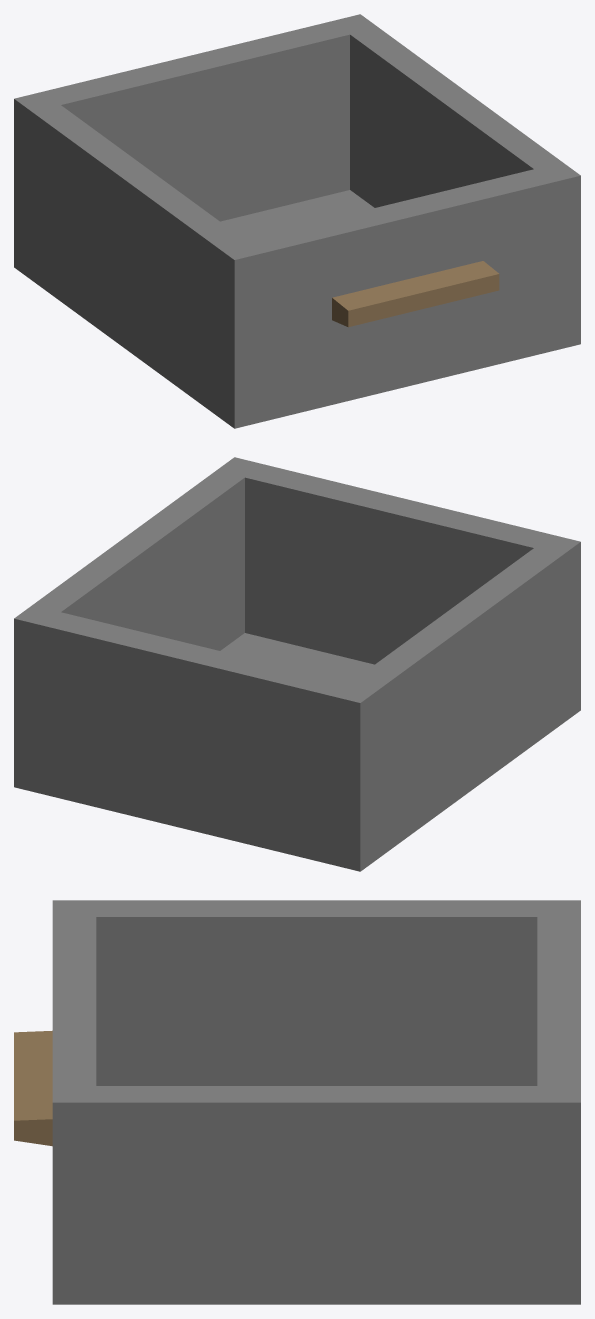
Rendered from Office_Counter_Drawer.fbx.
3 views of the same model, one above another, from view 1: azimuth 30°, elevation 25°; view 2: azimuth 150°, elevation 25°; view 3: azimuth 270°, elevation 25° (orthographic). The views are drawn at different scales.
Visible parts, largest first — view 1: Office_Counter_Drawer; view 2: Office_Counter_Drawer; view 3: Office_Counter_Drawer.
Part boxes in pixels (x1,y1,x2,y2): Office_Counter_Drawer: (14, 14, 580, 428); Office_Counter_Drawer: (14, 457, 580, 871); Office_Counter_Drawer: (14, 900, 580, 1304).
Size of the model in its own units: 41.37 by 19.25 by 48.95.
